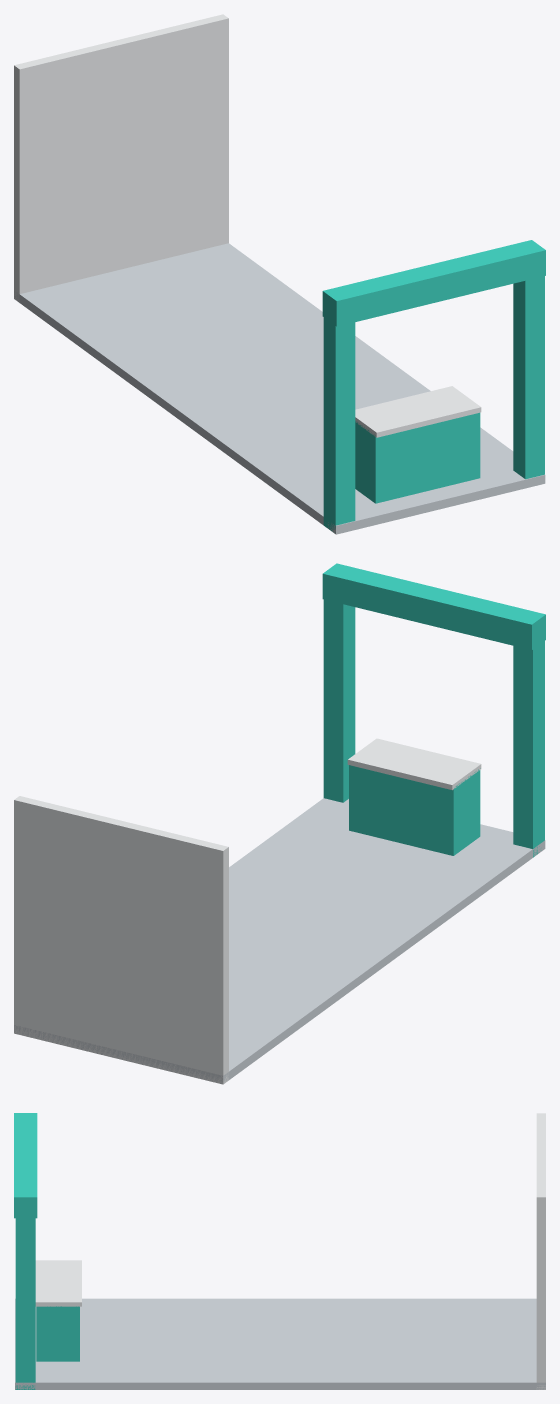
3 renders of one model, top to bottom at view 1: azimuth 30°, elevation 25°; view 2: azimuth 150°, elevation 25°; view 3: azimuth 270°, elevation 25°, orthographic. The views are drawn at different scales.
Visible parts, largest first — view 1: Exhibition Booth Concept; view 2: Exhibition Booth Concept; view 3: Exhibition Booth Concept.
Boxes of the visible parts, x1=… form: Exhibition Booth Concept: x1=14, y1=14, x2=545, y2=534; Exhibition Booth Concept: x1=14, y1=563, x2=545, y2=1084; Exhibition Booth Concept: x1=14, y1=1113, x2=545, y2=1389.
Bounding box in the file's own units: 3 × 3.2 × 8.01.
